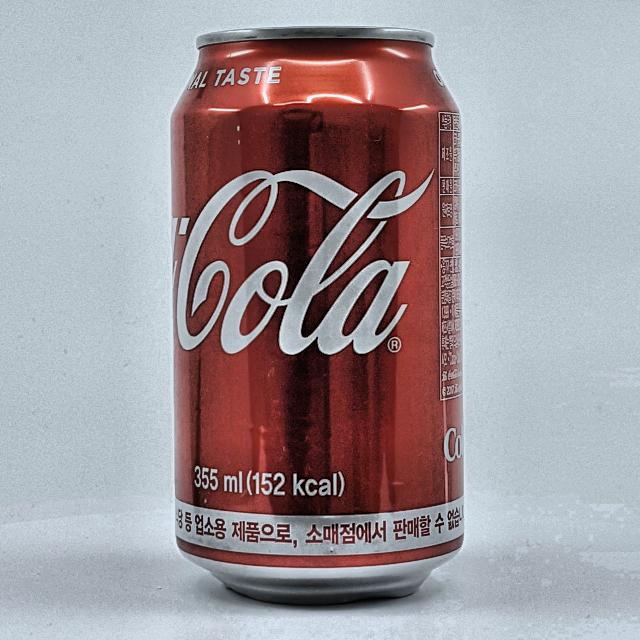cocacola: (167, 22, 479, 596)
